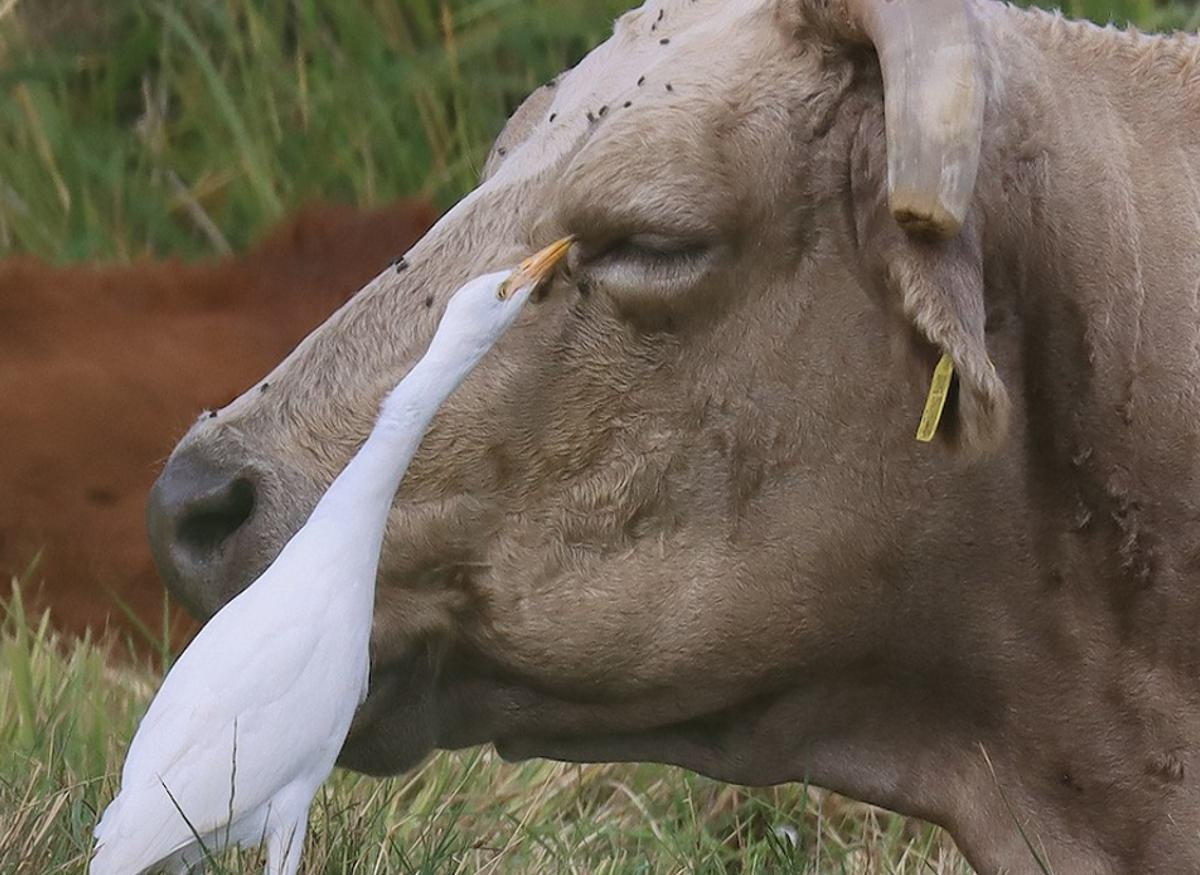egret: (57, 234, 586, 871)
